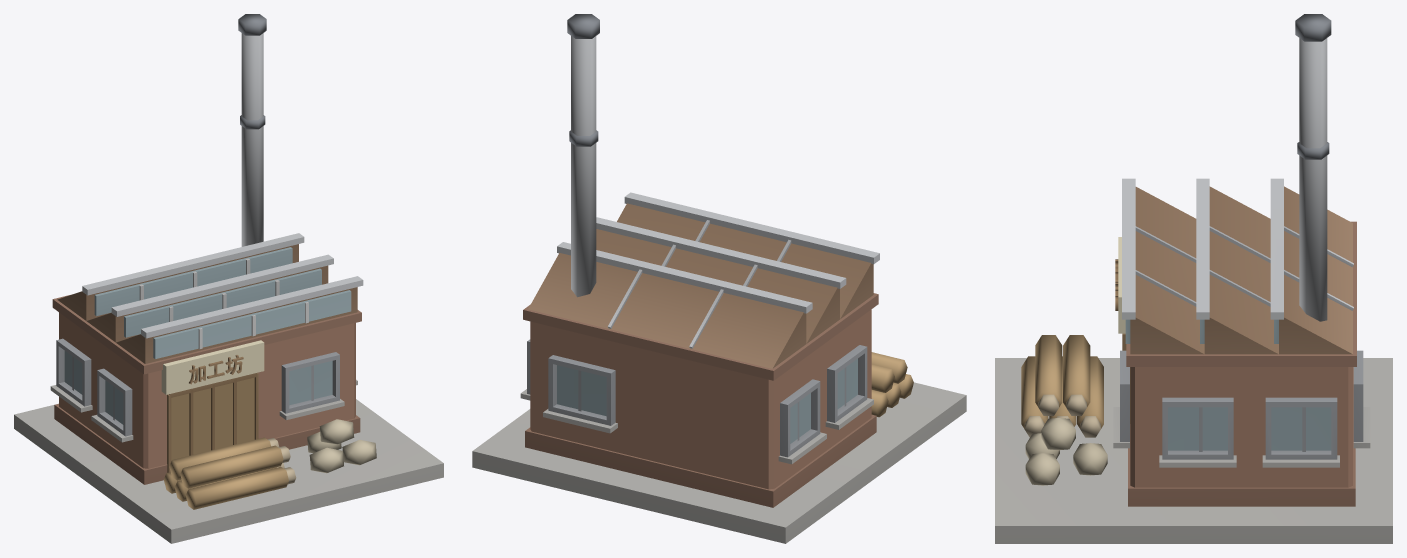
File: workshop.glb
3 views of the same model, side by side, from view 1: azimuth 30°, elevation 25°; view 2: azimuth 150°, elevation 25°; view 3: azimuth 270°, elevation 25° (orthographic). The views are drawn at different scales.
Visible parts, largest first — view 1: workshop; view 2: workshop; view 3: workshop.
Part boxes in pixels (box(x1,y1,x2,y2)): workshop: box(14, 14, 443, 543); workshop: box(472, 14, 966, 543); workshop: box(995, 14, 1392, 543).
Size of the model in its own units: 1 by 1.34 by 1.
